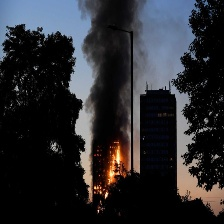fire: (91, 144, 126, 195)
smoke: (85, 1, 146, 138)
